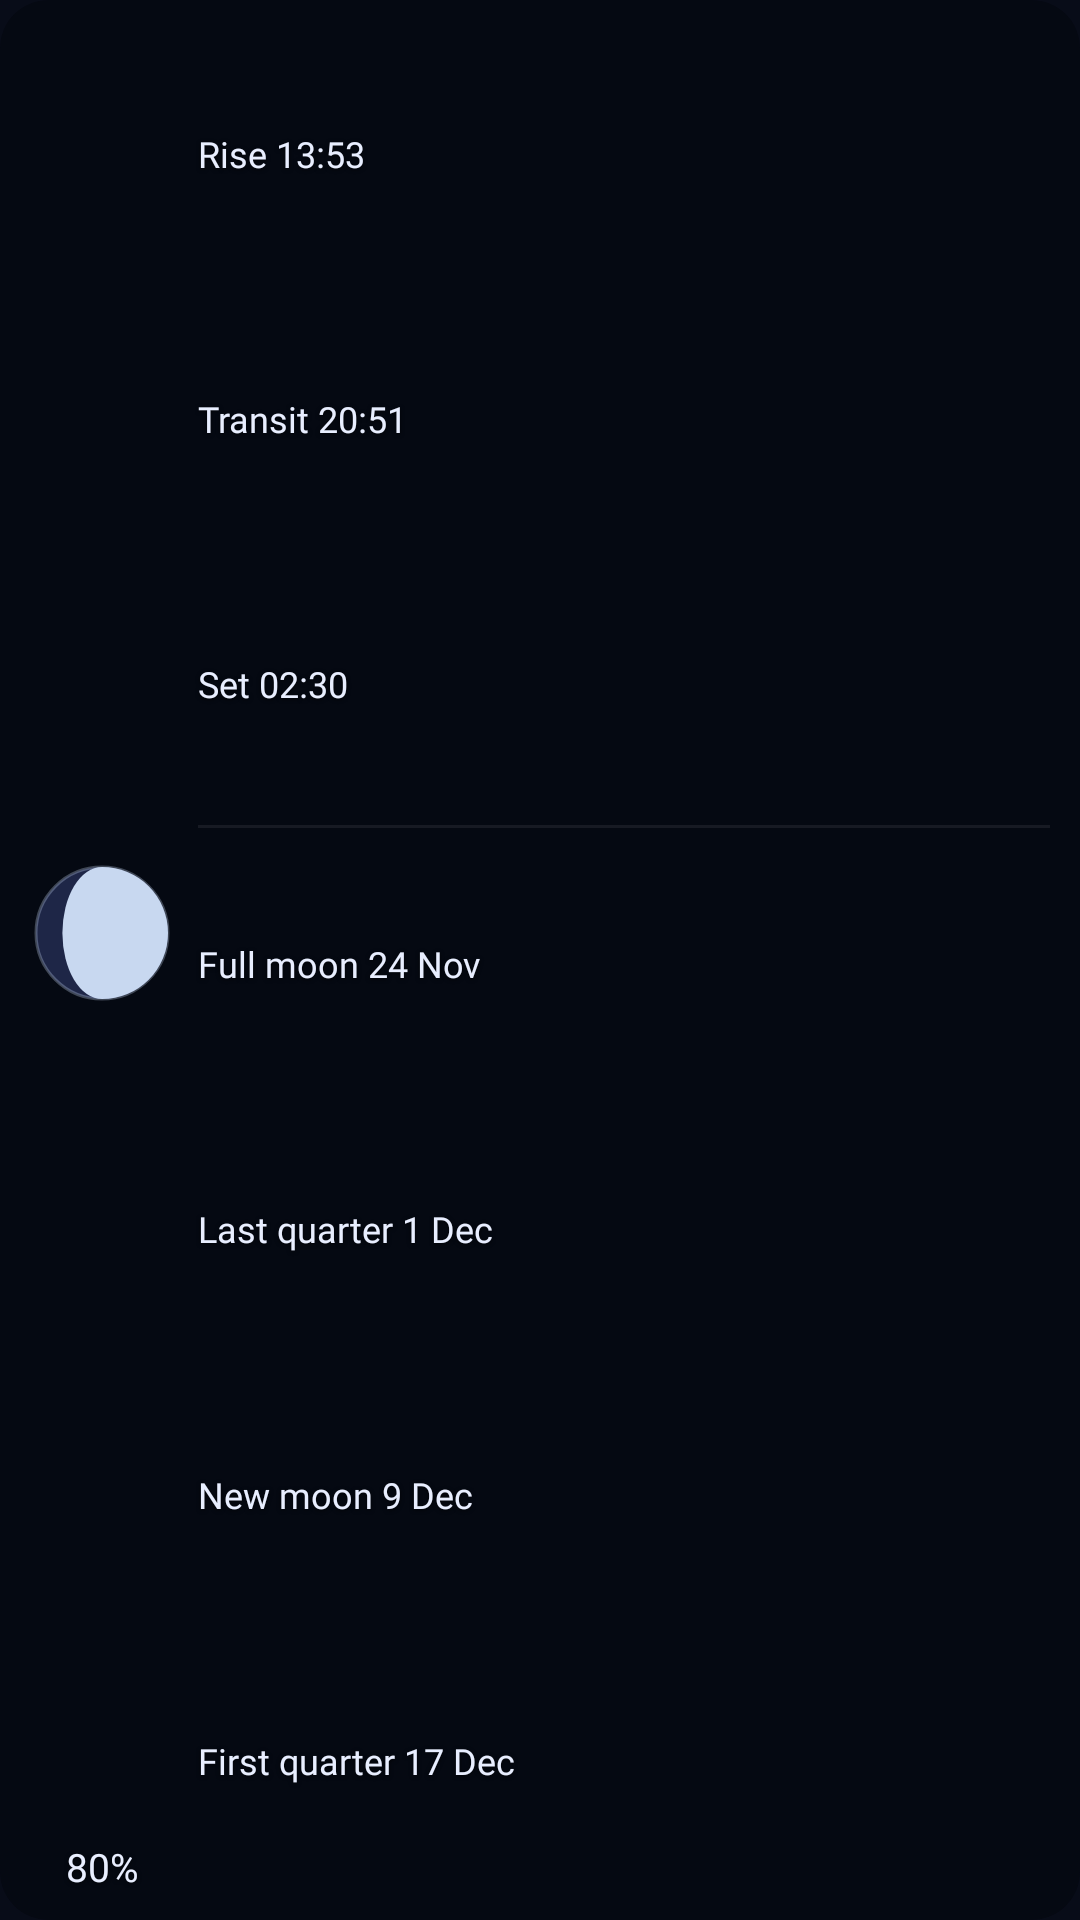

Icon bounding boxes for this 1080x1920 phone screenshot, format bbox=(x1, y1, x2, y2):
widget moon: bbox=(34, 865, 170, 1001)
